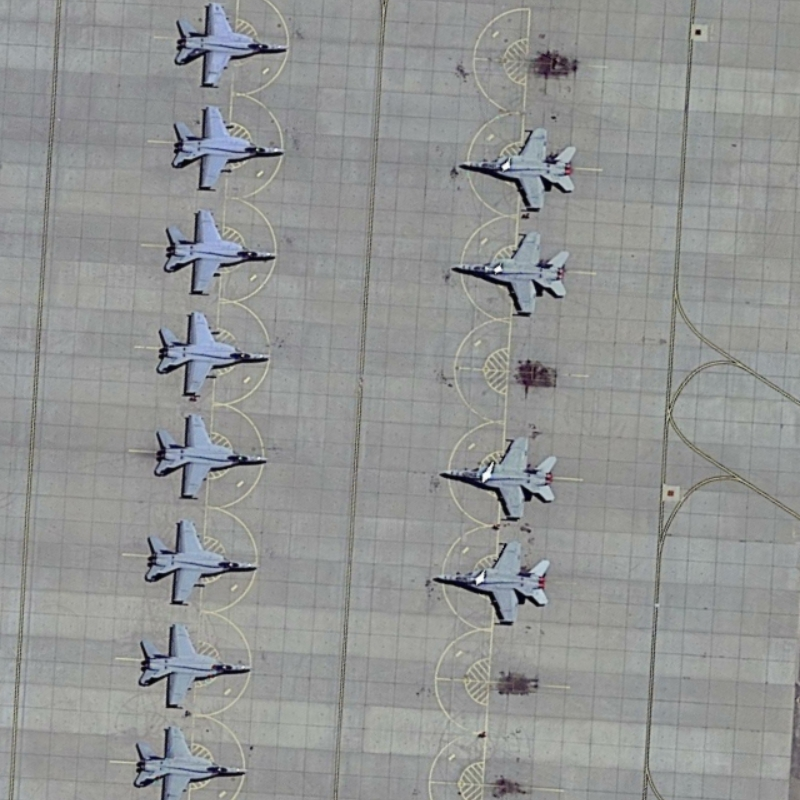A16: (432, 431, 561, 526), (428, 534, 554, 629), (453, 121, 580, 214), (449, 227, 573, 321), (141, 514, 262, 610), (134, 621, 257, 714), (154, 307, 274, 401), (151, 410, 271, 504), (161, 205, 278, 300), (169, 2, 292, 91), (168, 104, 288, 193), (130, 721, 248, 800)
